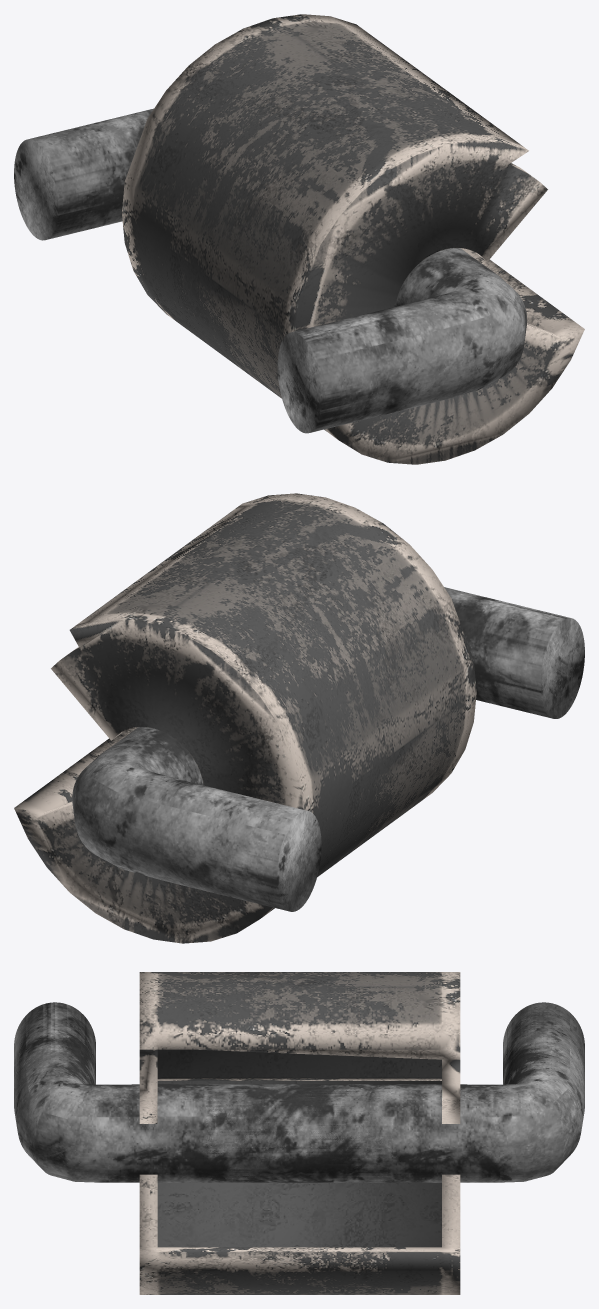
File: ROLKA.glb
The picture shows the model from 3 angles, top to bottom: view 1: azimuth 30°, elevation 25°; view 2: azimuth 150°, elevation 25°; view 3: azimuth 270°, elevation 25°; orthographic projection. The views are drawn at different scales.
Visible parts, largest first — view 1: Cylinder.002, Cylinder.003; view 2: Cylinder.002, Cylinder.003; view 3: Cylinder.002, Cylinder.003.
Part boxes in pixels (bbox=[...]): Cylinder.002: bbox=[122, 14, 584, 464]; Cylinder.003: bbox=[14, 108, 526, 433]; Cylinder.002: bbox=[14, 493, 476, 943]; Cylinder.003: bbox=[72, 587, 584, 911]; Cylinder.002: bbox=[139, 972, 460, 1294]; Cylinder.003: bbox=[14, 1002, 584, 1182].
Size of the model in its own units: 0.6879 by 0.6276 by 1.11.
2 materials, 2 textured.
